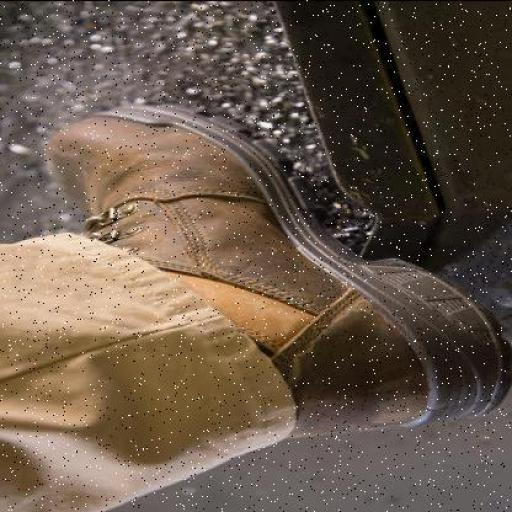safety_shoe: (78, 110, 494, 427)
